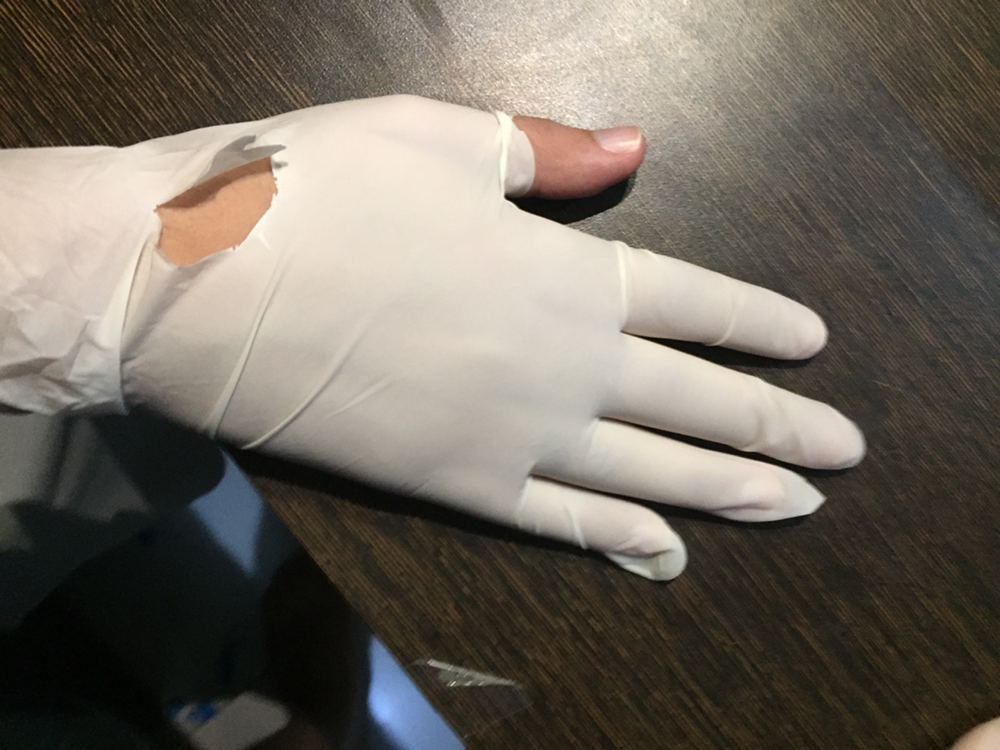defected: (70, 4, 968, 663)
